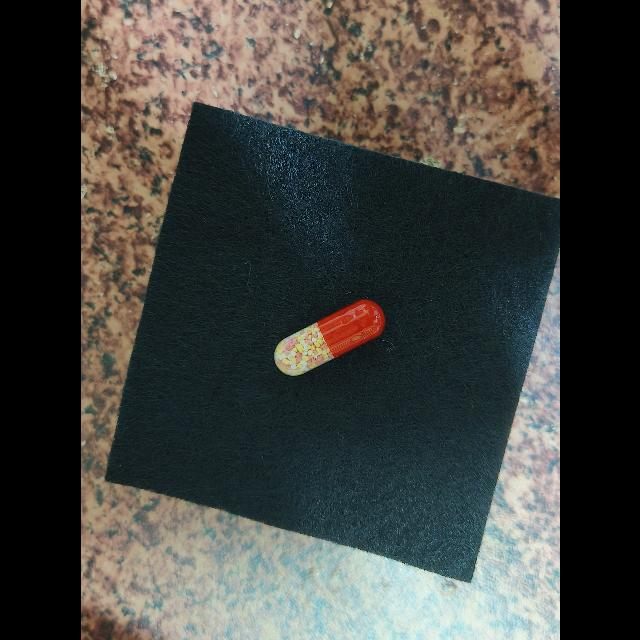Intact Capsule: (273, 299, 385, 376)
